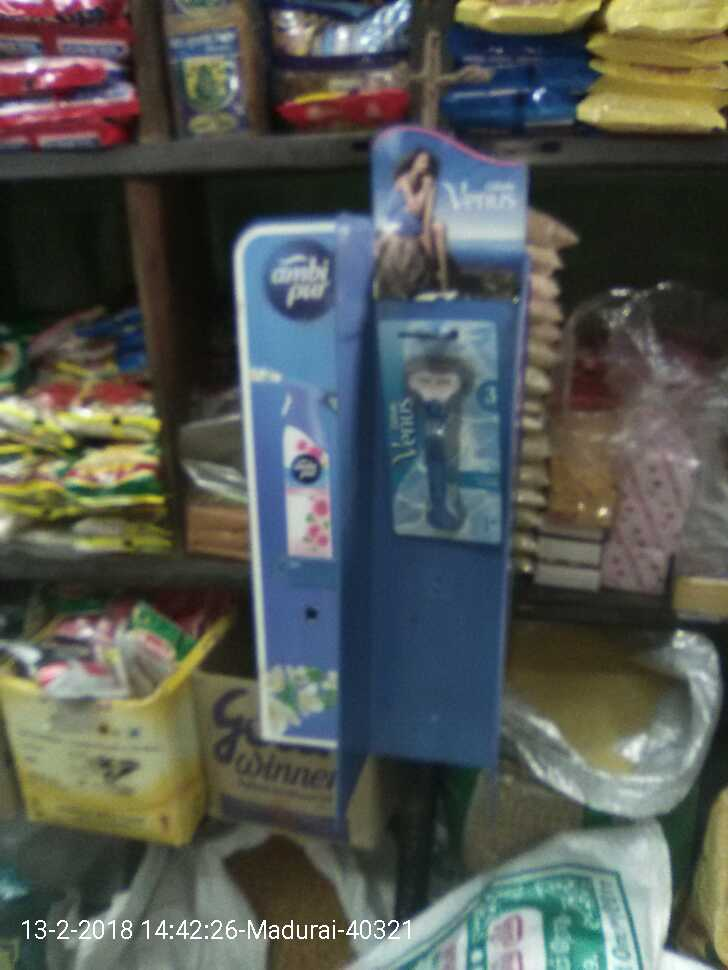venus: (379, 312, 510, 546)
